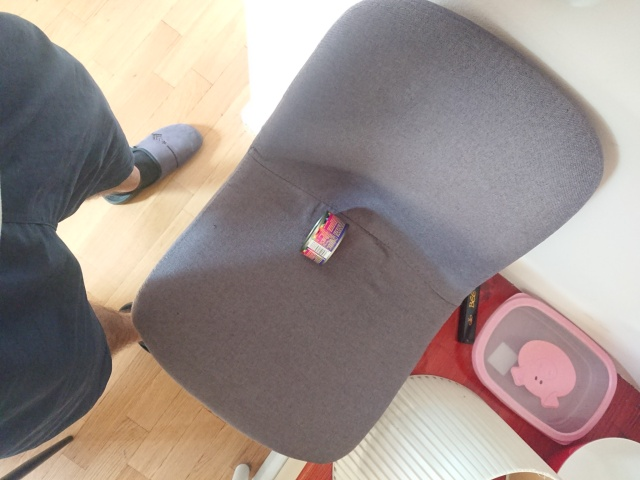Giana Tuna Salad Mexico 185g: (297, 207, 352, 268)
